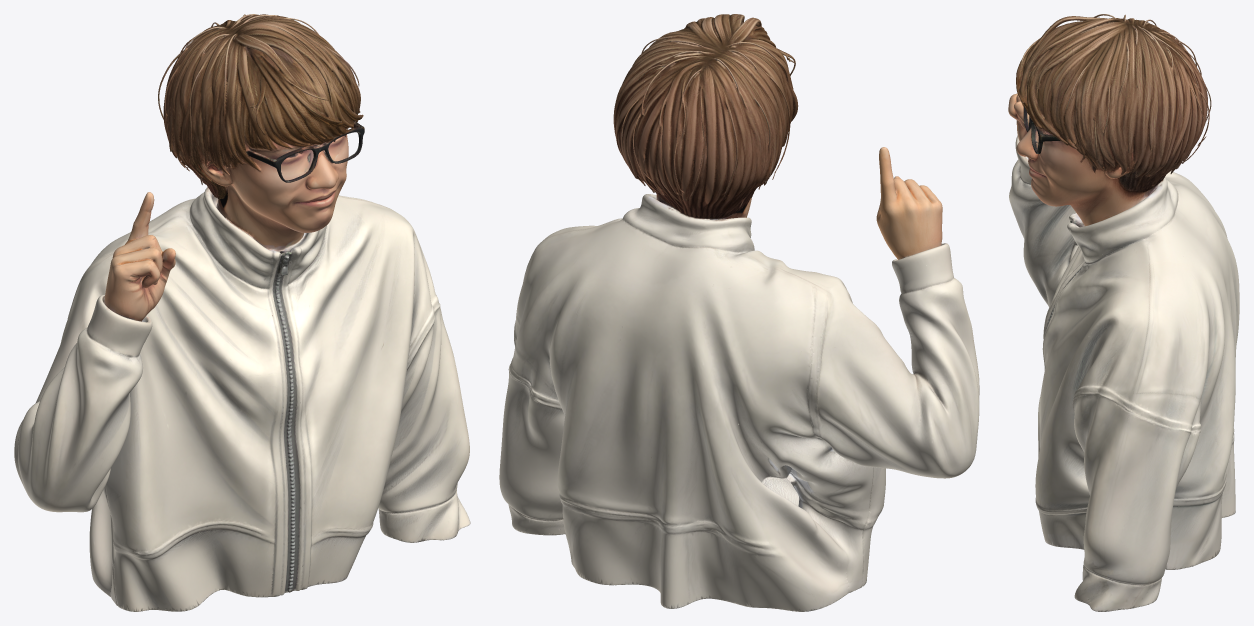
3 renders of one model, left to right at view 1: azimuth 30°, elevation 25°; view 2: azimuth 150°, elevation 25°; view 3: azimuth 270°, elevation 25°, orthographic. The views are drawn at different scales.
Size of the model in its own units: 1.64 by 1.9 by 0.7951.
1 material, 1 textured.
